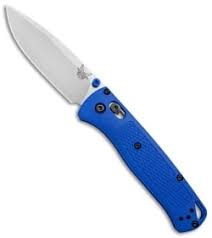knife: (2, 2, 210, 234)
